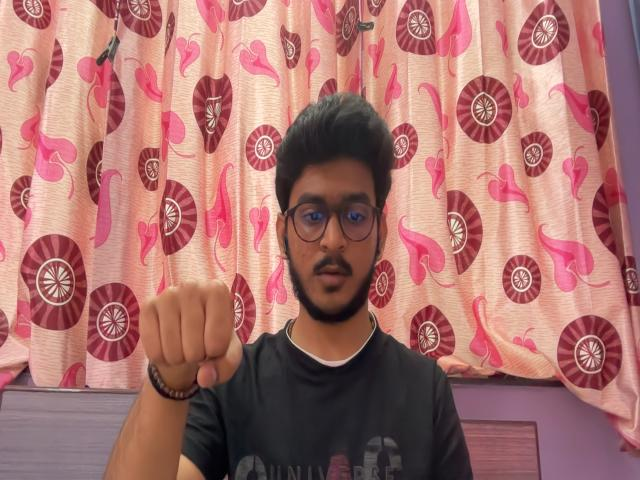Yes: (135, 270, 244, 398)
